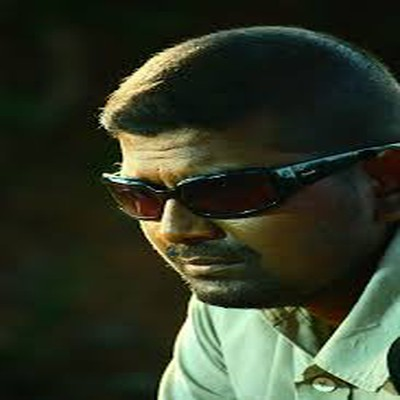eywear: (85, 135, 306, 226)
